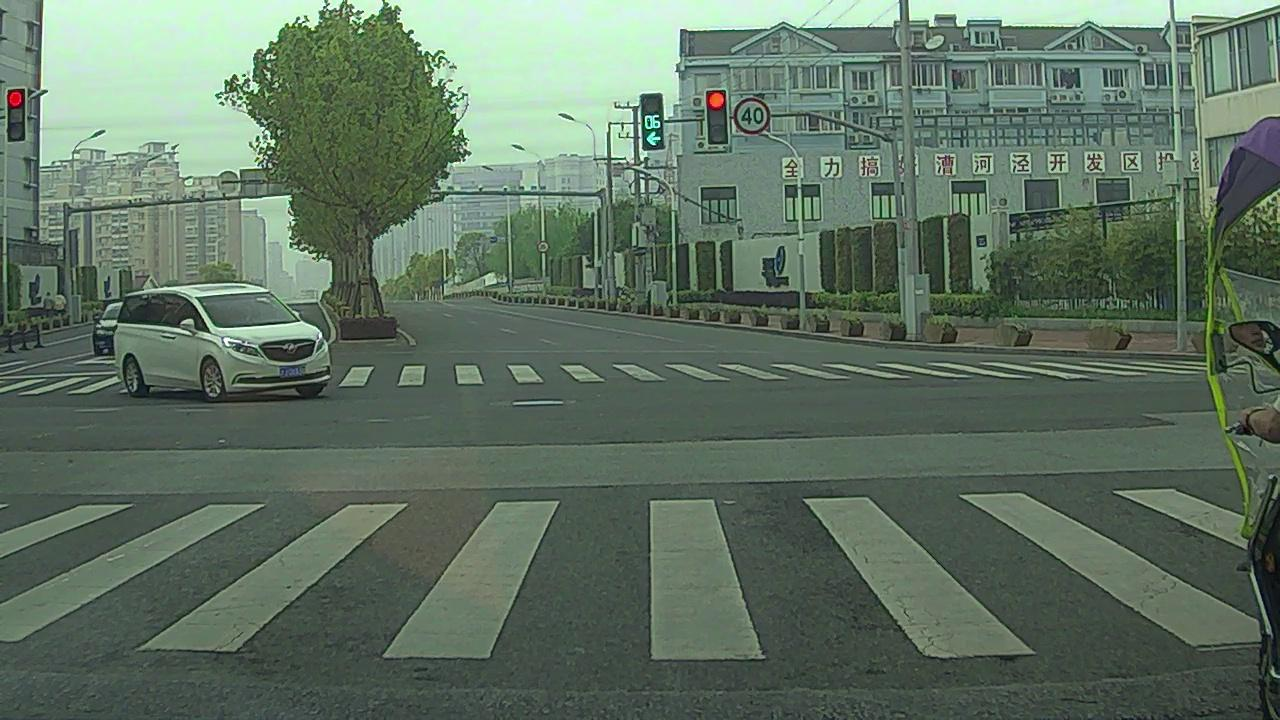traffic_light: (640, 93, 664, 149), (708, 88, 729, 146), (7, 89, 26, 139)
